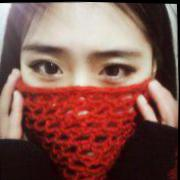WRONG: (16, 22, 154, 180)
